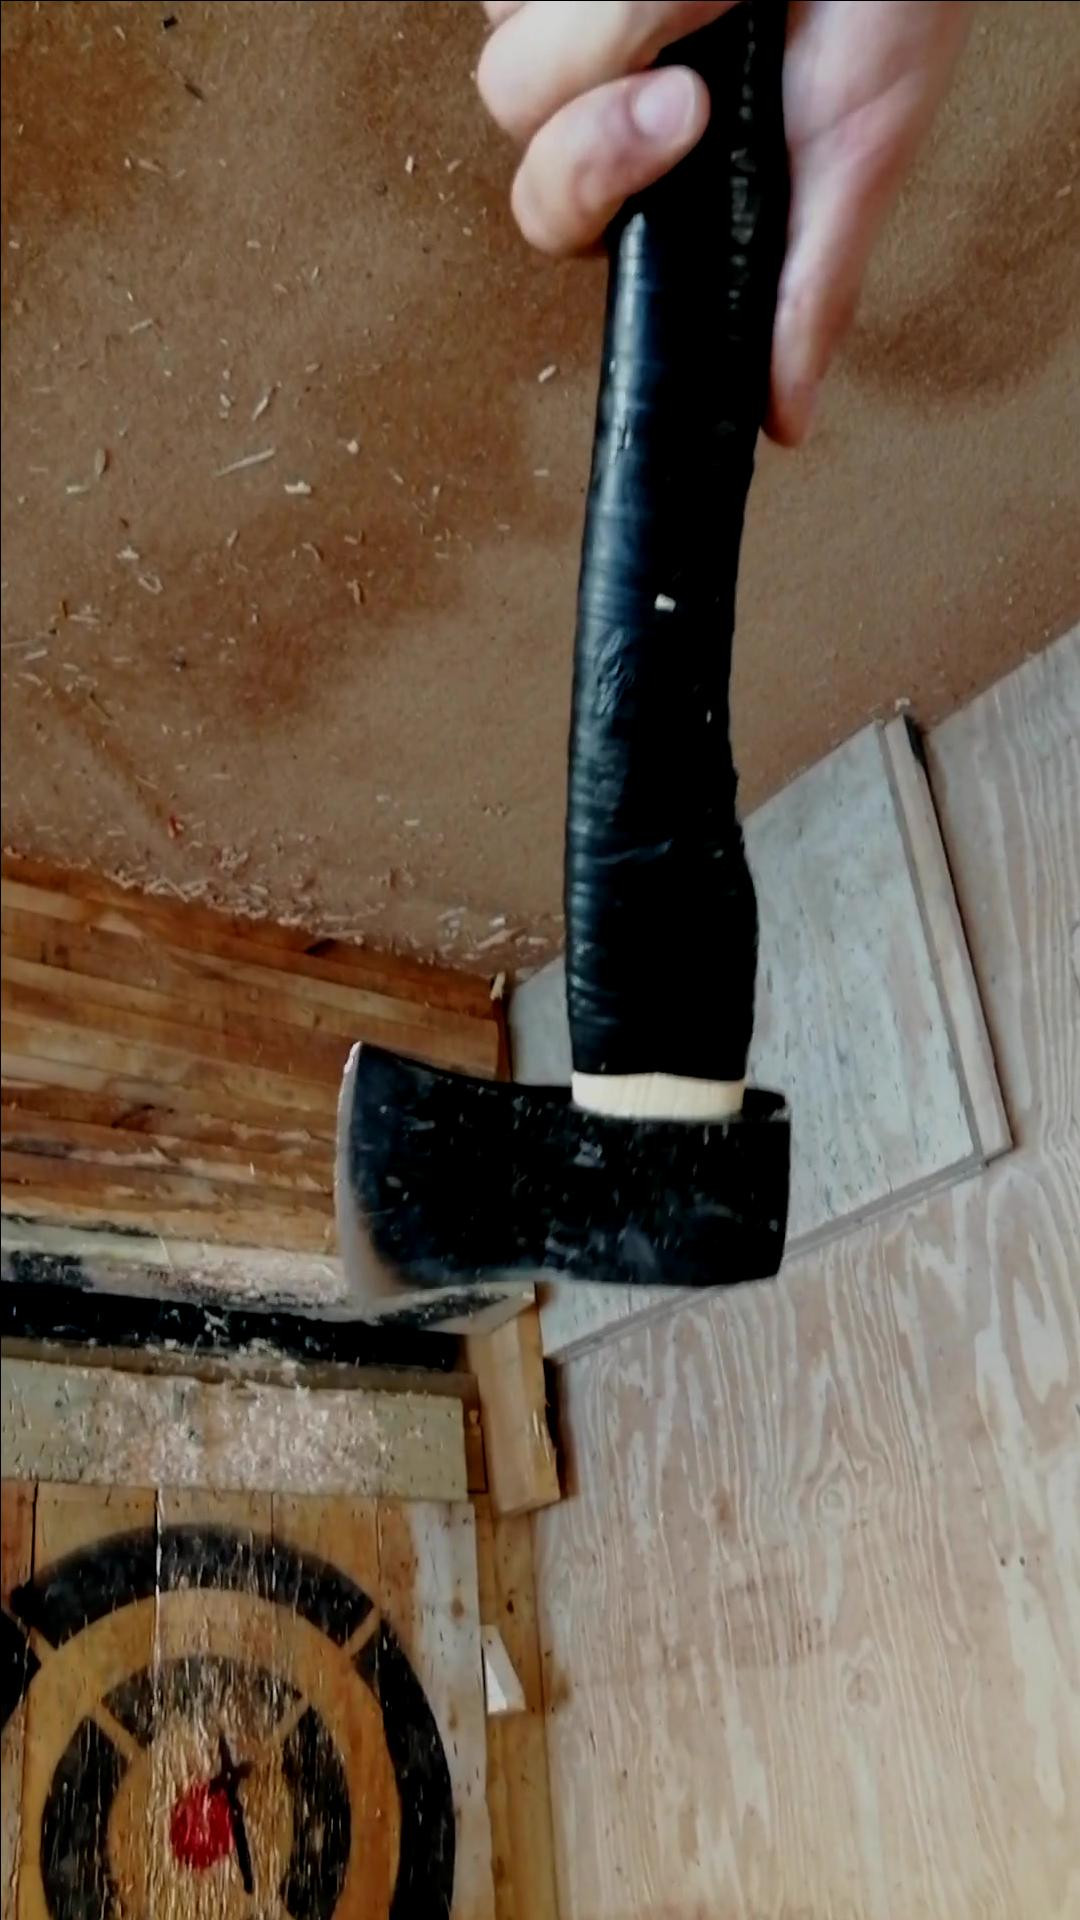Hand Axe: (327, 1030, 794, 1310)
